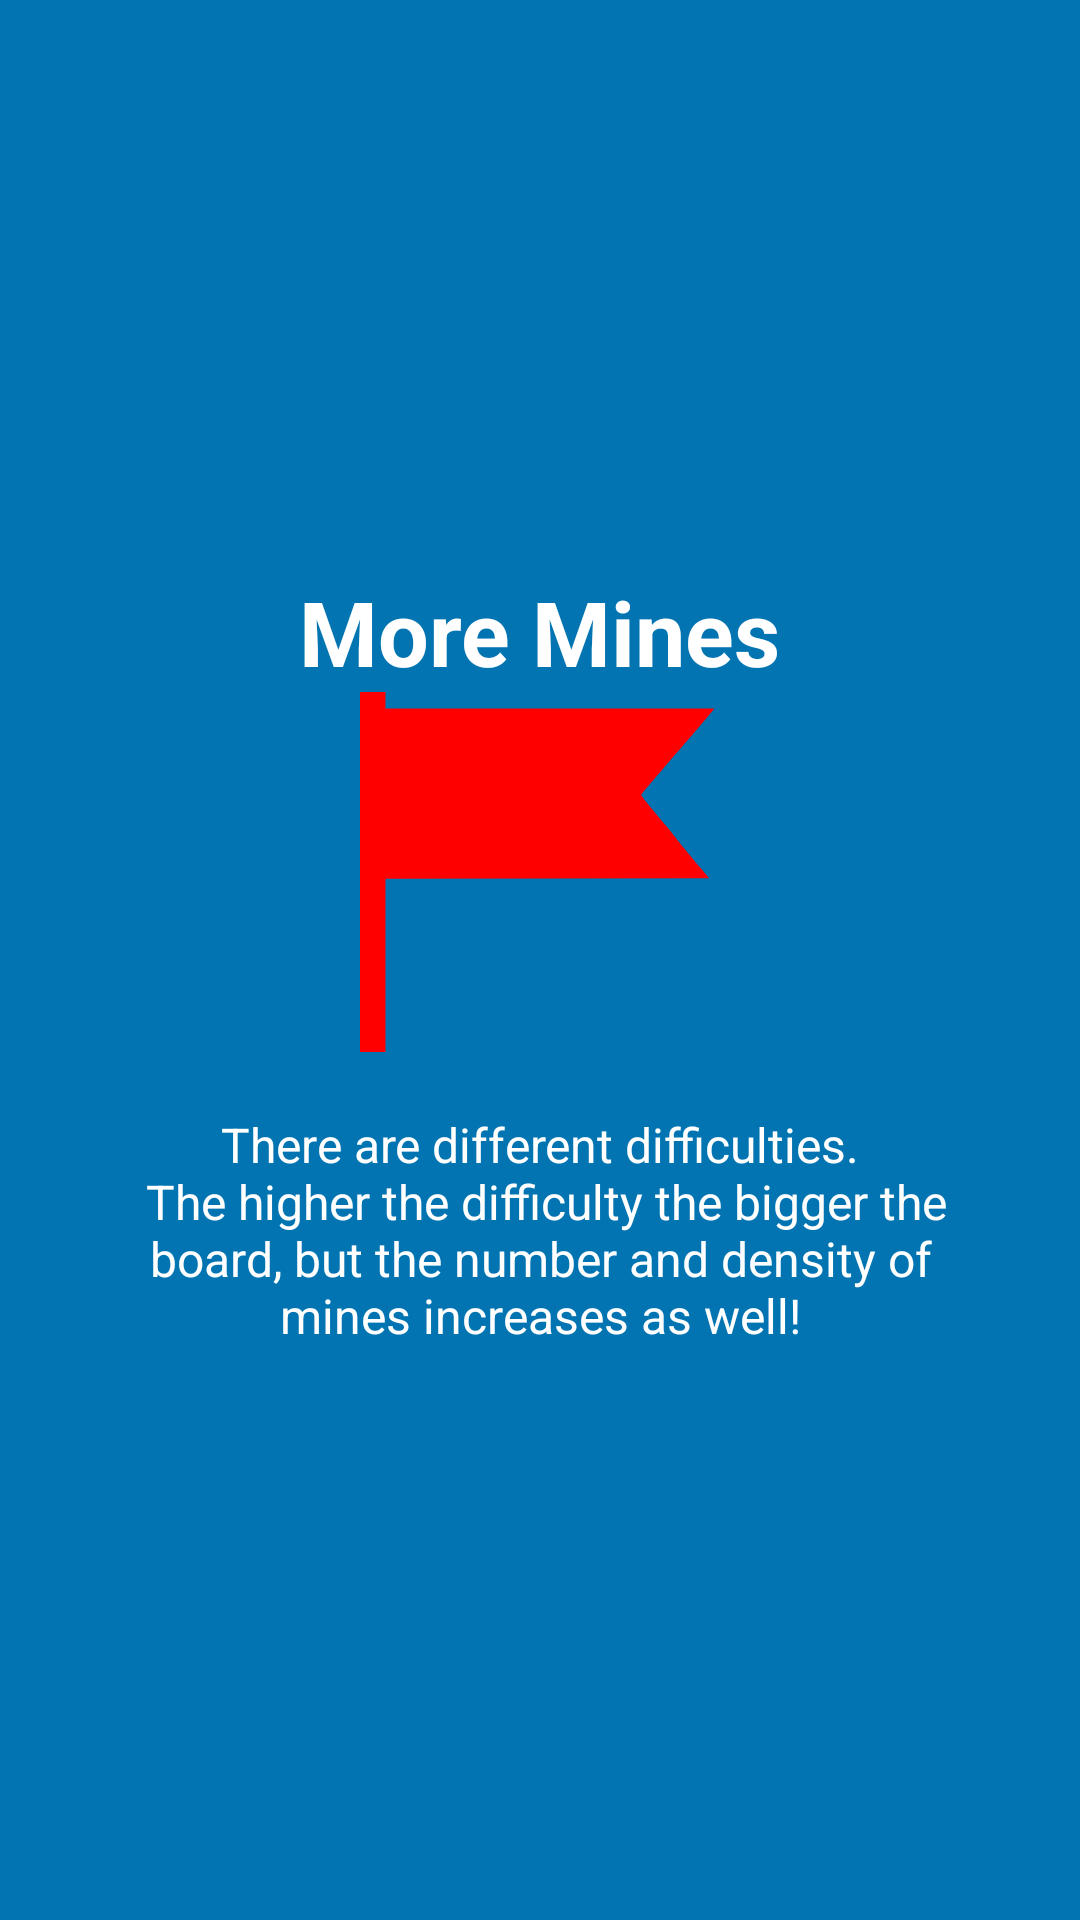

Point at icon controls on the screen. Image size 1080x1920, points as [x,y].
flagge: [537,872]
